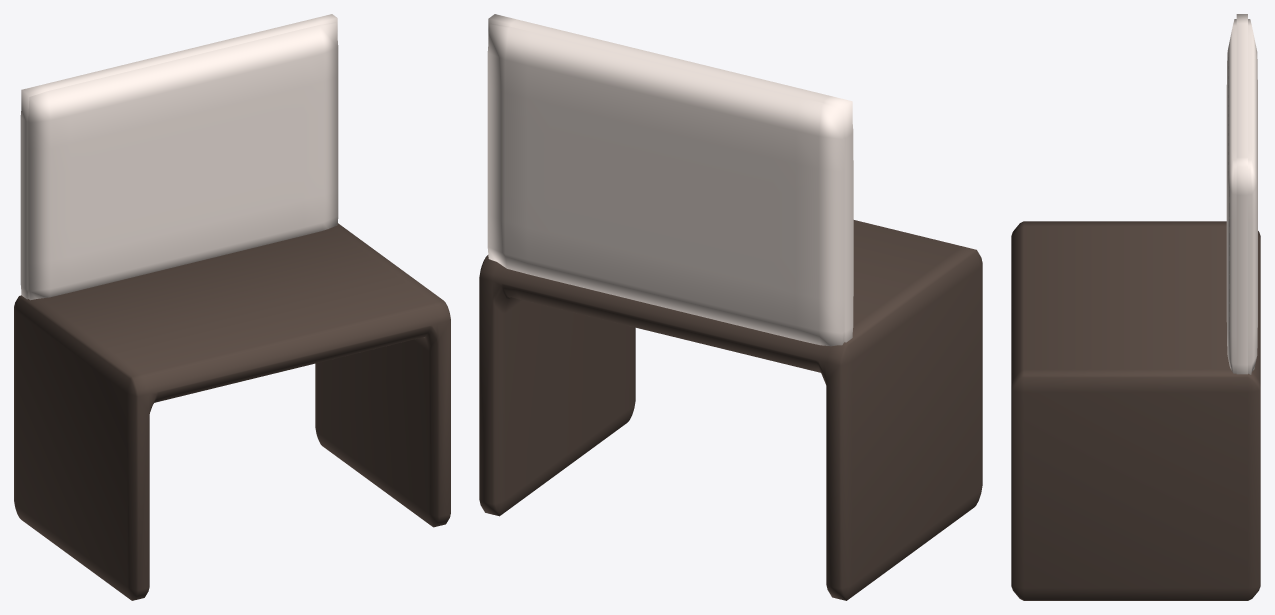
The picture shows the model from 3 angles, left to right: view 1: azimuth 30°, elevation 25°; view 2: azimuth 150°, elevation 25°; view 3: azimuth 270°, elevation 25°; orthographic projection. The views are drawn at different scales.
Parts seen in each view (by area): view 1: Cube, Cube.001; view 2: Cube.001, Cube; view 3: Cube, Cube.001.
Boxes of the visible parts, x1=… form: Cube: x1=14, y1=223, x2=450, y2=600; Cube.001: x1=20, y1=14, x2=338, y2=300; Cube.001: x1=487, y1=14, x2=853, y2=346; Cube: x1=479, y1=220, x2=982, y2=600; Cube: x1=1011, y1=221, x2=1260, y2=600; Cube.001: x1=1226, y1=14, x2=1257, y2=374.
Bounding box in the file's own units: 0.6 × 0.7668 × 0.4.
